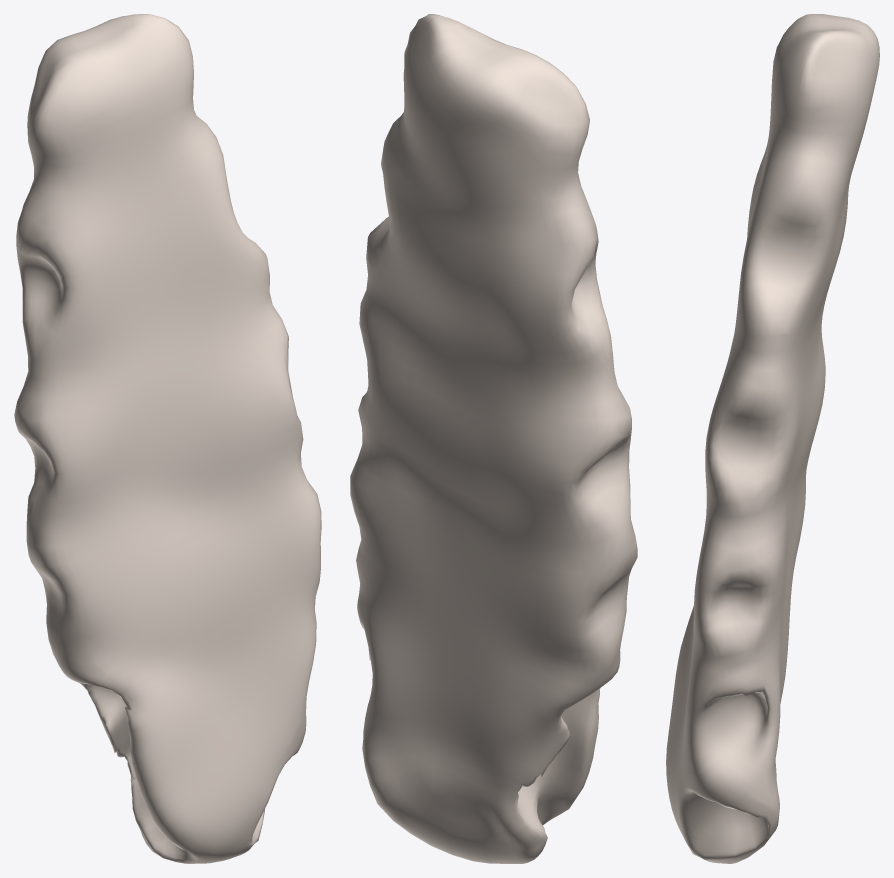
The model's file is 3d-vh-f-sternum.glb.
3 views of the same model, side by side, from view 1: azimuth 30°, elevation 25°; view 2: azimuth 150°, elevation 25°; view 3: azimuth 270°, elevation 25° (orthographic). The views are drawn at different scales.
Parts seen in each view (by area): view 1: VH_F_sternum; view 2: VH_F_sternum; view 3: VH_F_sternum.
Boxes of the visible parts, x1,y1,x2,y2 form: VH_F_sternum: [14, 14, 321, 863]; VH_F_sternum: [350, 14, 637, 863]; VH_F_sternum: [666, 14, 879, 863].
Bounding box in the file's own units: 0.0367 × 0.1057 × 0.0252.
